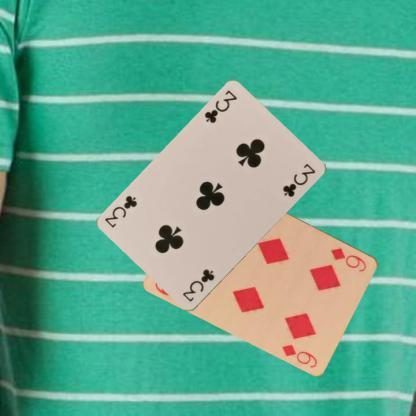3c: (180, 266, 216, 304), (202, 88, 238, 126)
6d: (328, 245, 368, 273)
